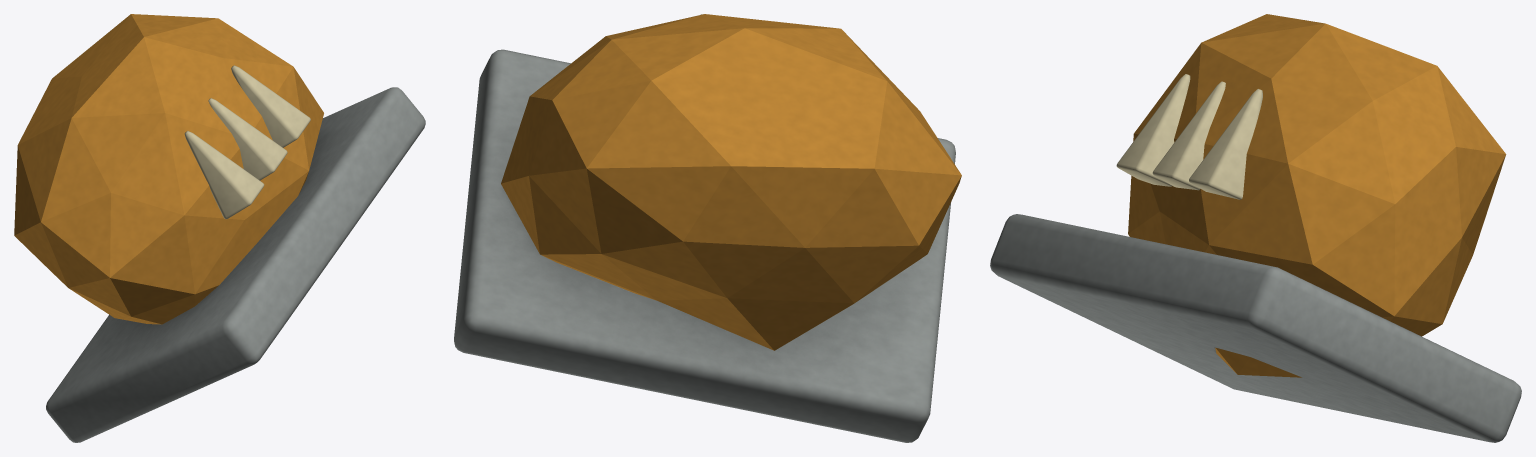
3 renders of one model, left to right at view 1: azimuth 30°, elevation 25°; view 2: azimuth 150°, elevation 25°; view 3: azimuth 270°, elevation 25°, orthographic. The views are drawn at different scales.
Parts seen in each view (by area): view 1: Executive-grade support shoe; view 2: Executive-grade support shoe; view 3: Executive-grade support shoe.
Boxes of the visible parts, left/top/right/bottom form: Executive-grade support shoe: left=14, top=14, right=425, bottom=442; Executive-grade support shoe: left=454, top=14, right=961, bottom=442; Executive-grade support shoe: left=990, top=14, right=1521, bottom=442.
Size of the model in its own units: 1.08 by 0.9196 by 1.04.
1 material, 1 textured.
